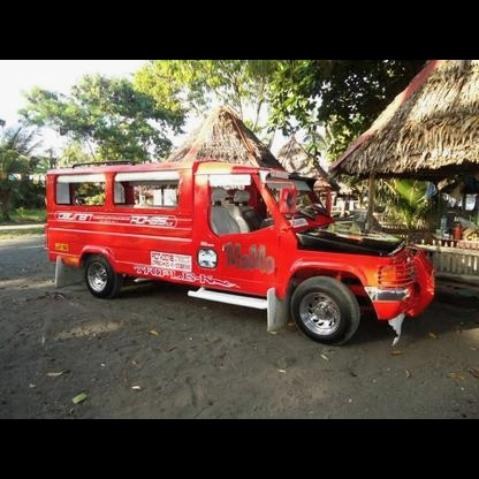jeepney: (26, 128, 442, 358)
